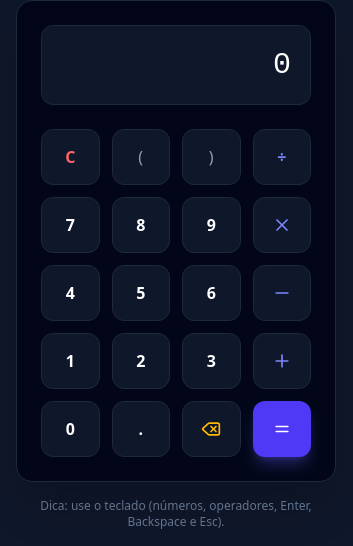
Scenario: CalculatorTool › recovers from an error when typing a new number
Press 1
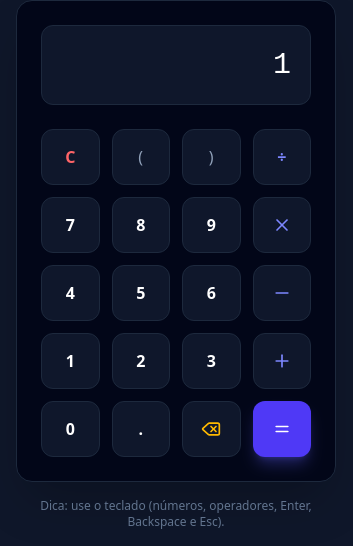
Press /
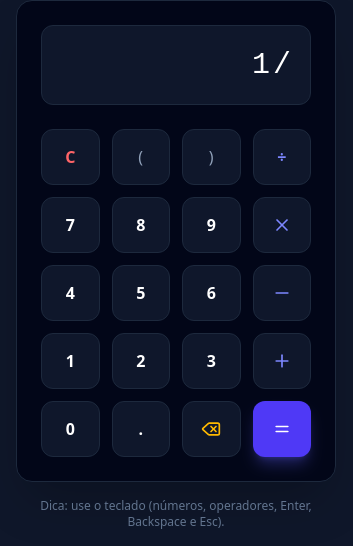
Press 0
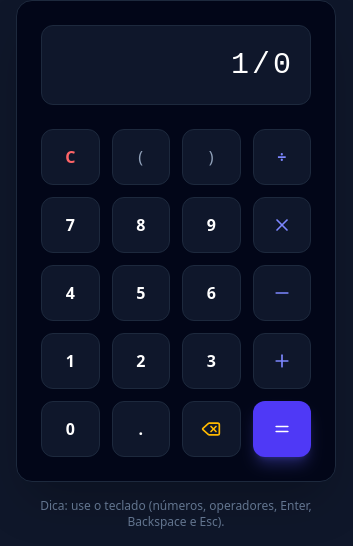
Press Enter
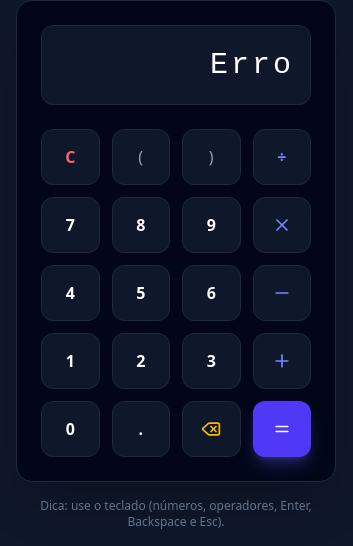
Check: the text with test id "calculator-display" reads "Erro", box top-left (210, 48), bottom-right (294, 82)
Click the button "7": click(70, 225) top-left (41, 197), bottom-right (100, 253)
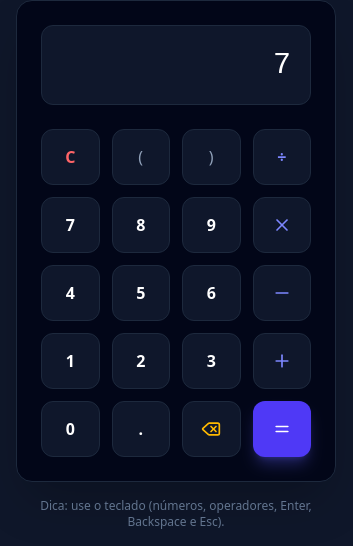
Check: the text with test id "calculator-display" reads "7", box top-left (273, 48), bottom-right (294, 82)
